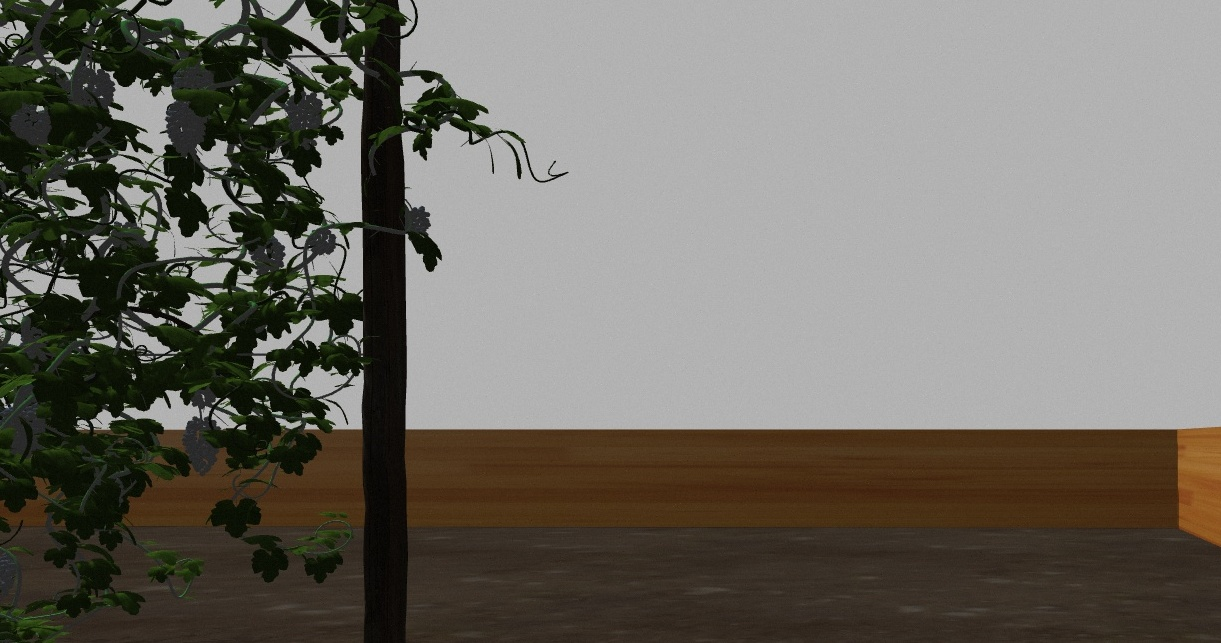grape: (181, 414, 226, 474), (165, 102, 205, 156), (286, 94, 326, 144), (9, 408, 49, 458), (9, 104, 52, 146), (72, 70, 116, 111), (251, 238, 286, 276), (174, 66, 214, 93), (309, 229, 337, 256), (405, 206, 431, 235)
